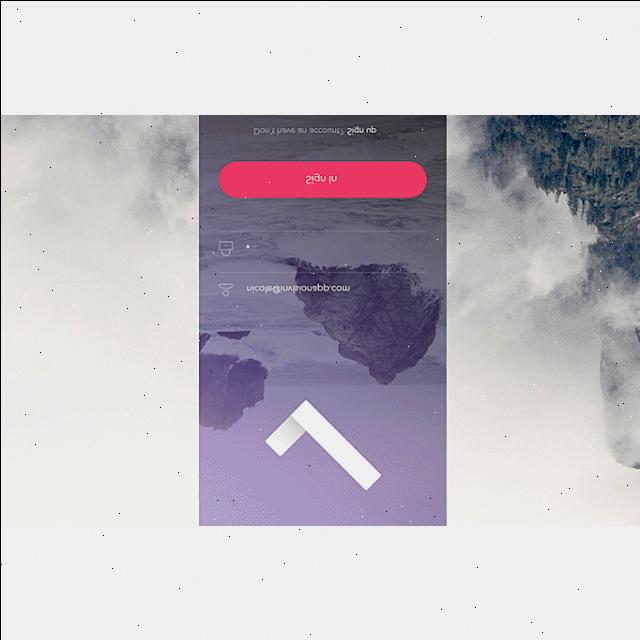QLabel: (251, 125, 343, 136), (302, 171, 338, 185), (346, 125, 376, 135)
VBtn: (217, 160, 426, 200)
VCard: (195, 114, 445, 526)
VImg: (252, 390, 386, 496)
VTextField: (211, 227, 433, 260), (212, 268, 428, 298)
